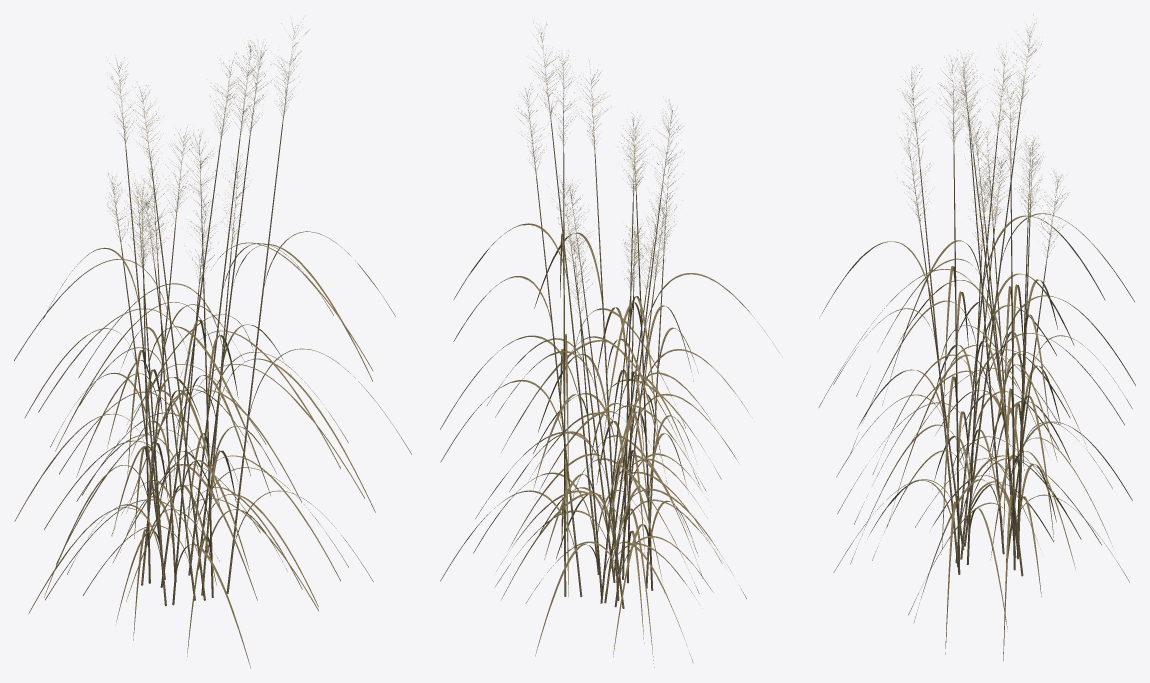
File: saccharum-5.glb
3 renders of one model, left to right at view 1: azimuth 30°, elevation 25°; view 2: azimuth 150°, elevation 25°; view 3: azimuth 270°, elevation 25°, orthographic. The views are drawn at different scales.
Parts seen in each view (by area): view 1: grass-leaf, stem, panicle, rachis, silky-hairs; view 2: grass-leaf, stem, panicle, rachis, silky-hairs; view 3: grass-leaf, stem, panicle, rachis, silky-hairs.
Part boxes in pixels (x1,y1,x2,y2): grass-leaf: [14, 231, 411, 668]; stem: [121, 124, 282, 606]; panicle: [107, 19, 308, 284]; rachis: [113, 33, 294, 291]; silky-hairs: [107, 18, 305, 274]; grass-leaf: [440, 223, 779, 667]; stem: [536, 123, 663, 608]; panicle: [517, 23, 681, 315]; rachis: [528, 41, 671, 321]; silky-hairs: [516, 16, 683, 304]; grass-leaf: [818, 213, 1135, 660]; stem: [920, 111, 1046, 576]; panicle: [900, 27, 1068, 257]; rachis: [908, 40, 1057, 264]; silky-hairs: [897, 14, 1069, 248].
Bounding box in the file's own units: 1.33 × 2.19 × 1.09.
Materials: 4 (2 with a texture image).
